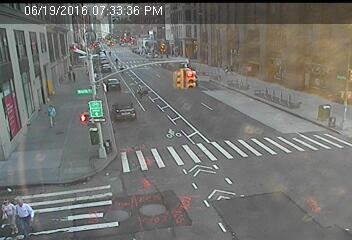neg: (34, 67, 59, 100), (2, 100, 24, 130), (117, 106, 139, 134), (99, 87, 120, 116), (272, 90, 290, 114), (93, 58, 109, 80), (257, 84, 273, 106)
pos: (3, 195, 36, 239), (38, 100, 60, 130), (67, 67, 80, 85), (62, 68, 73, 83)
